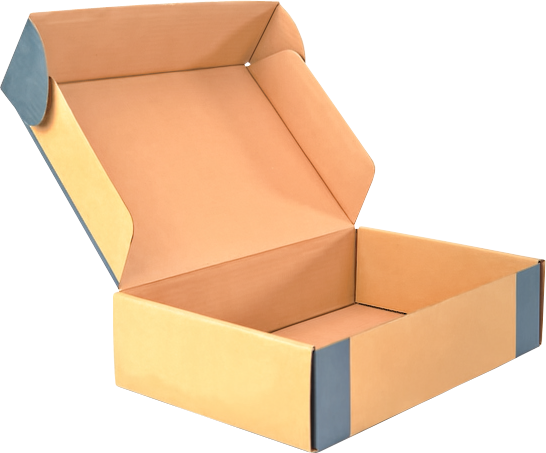Rec_Paper: (1, 1, 546, 453)
